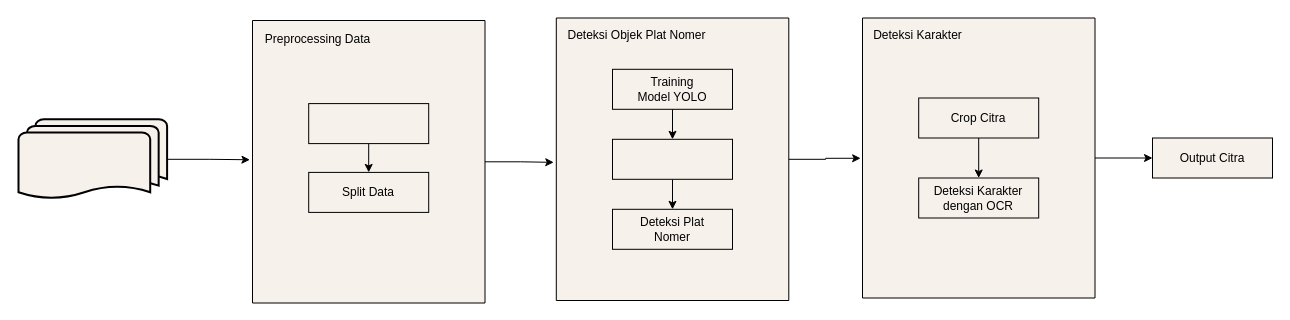
Some shapes in this 1290 by 320 pixel diagram are drawn without their labels. The box of each missing label's shape, as (x1, y1, x2, y2) in pixels:
Annotation: (308, 103, 429, 144)
Citra Plat Nomer: (17, 118, 168, 200)
Evaluasi Model YOLO: (612, 138, 732, 179)
